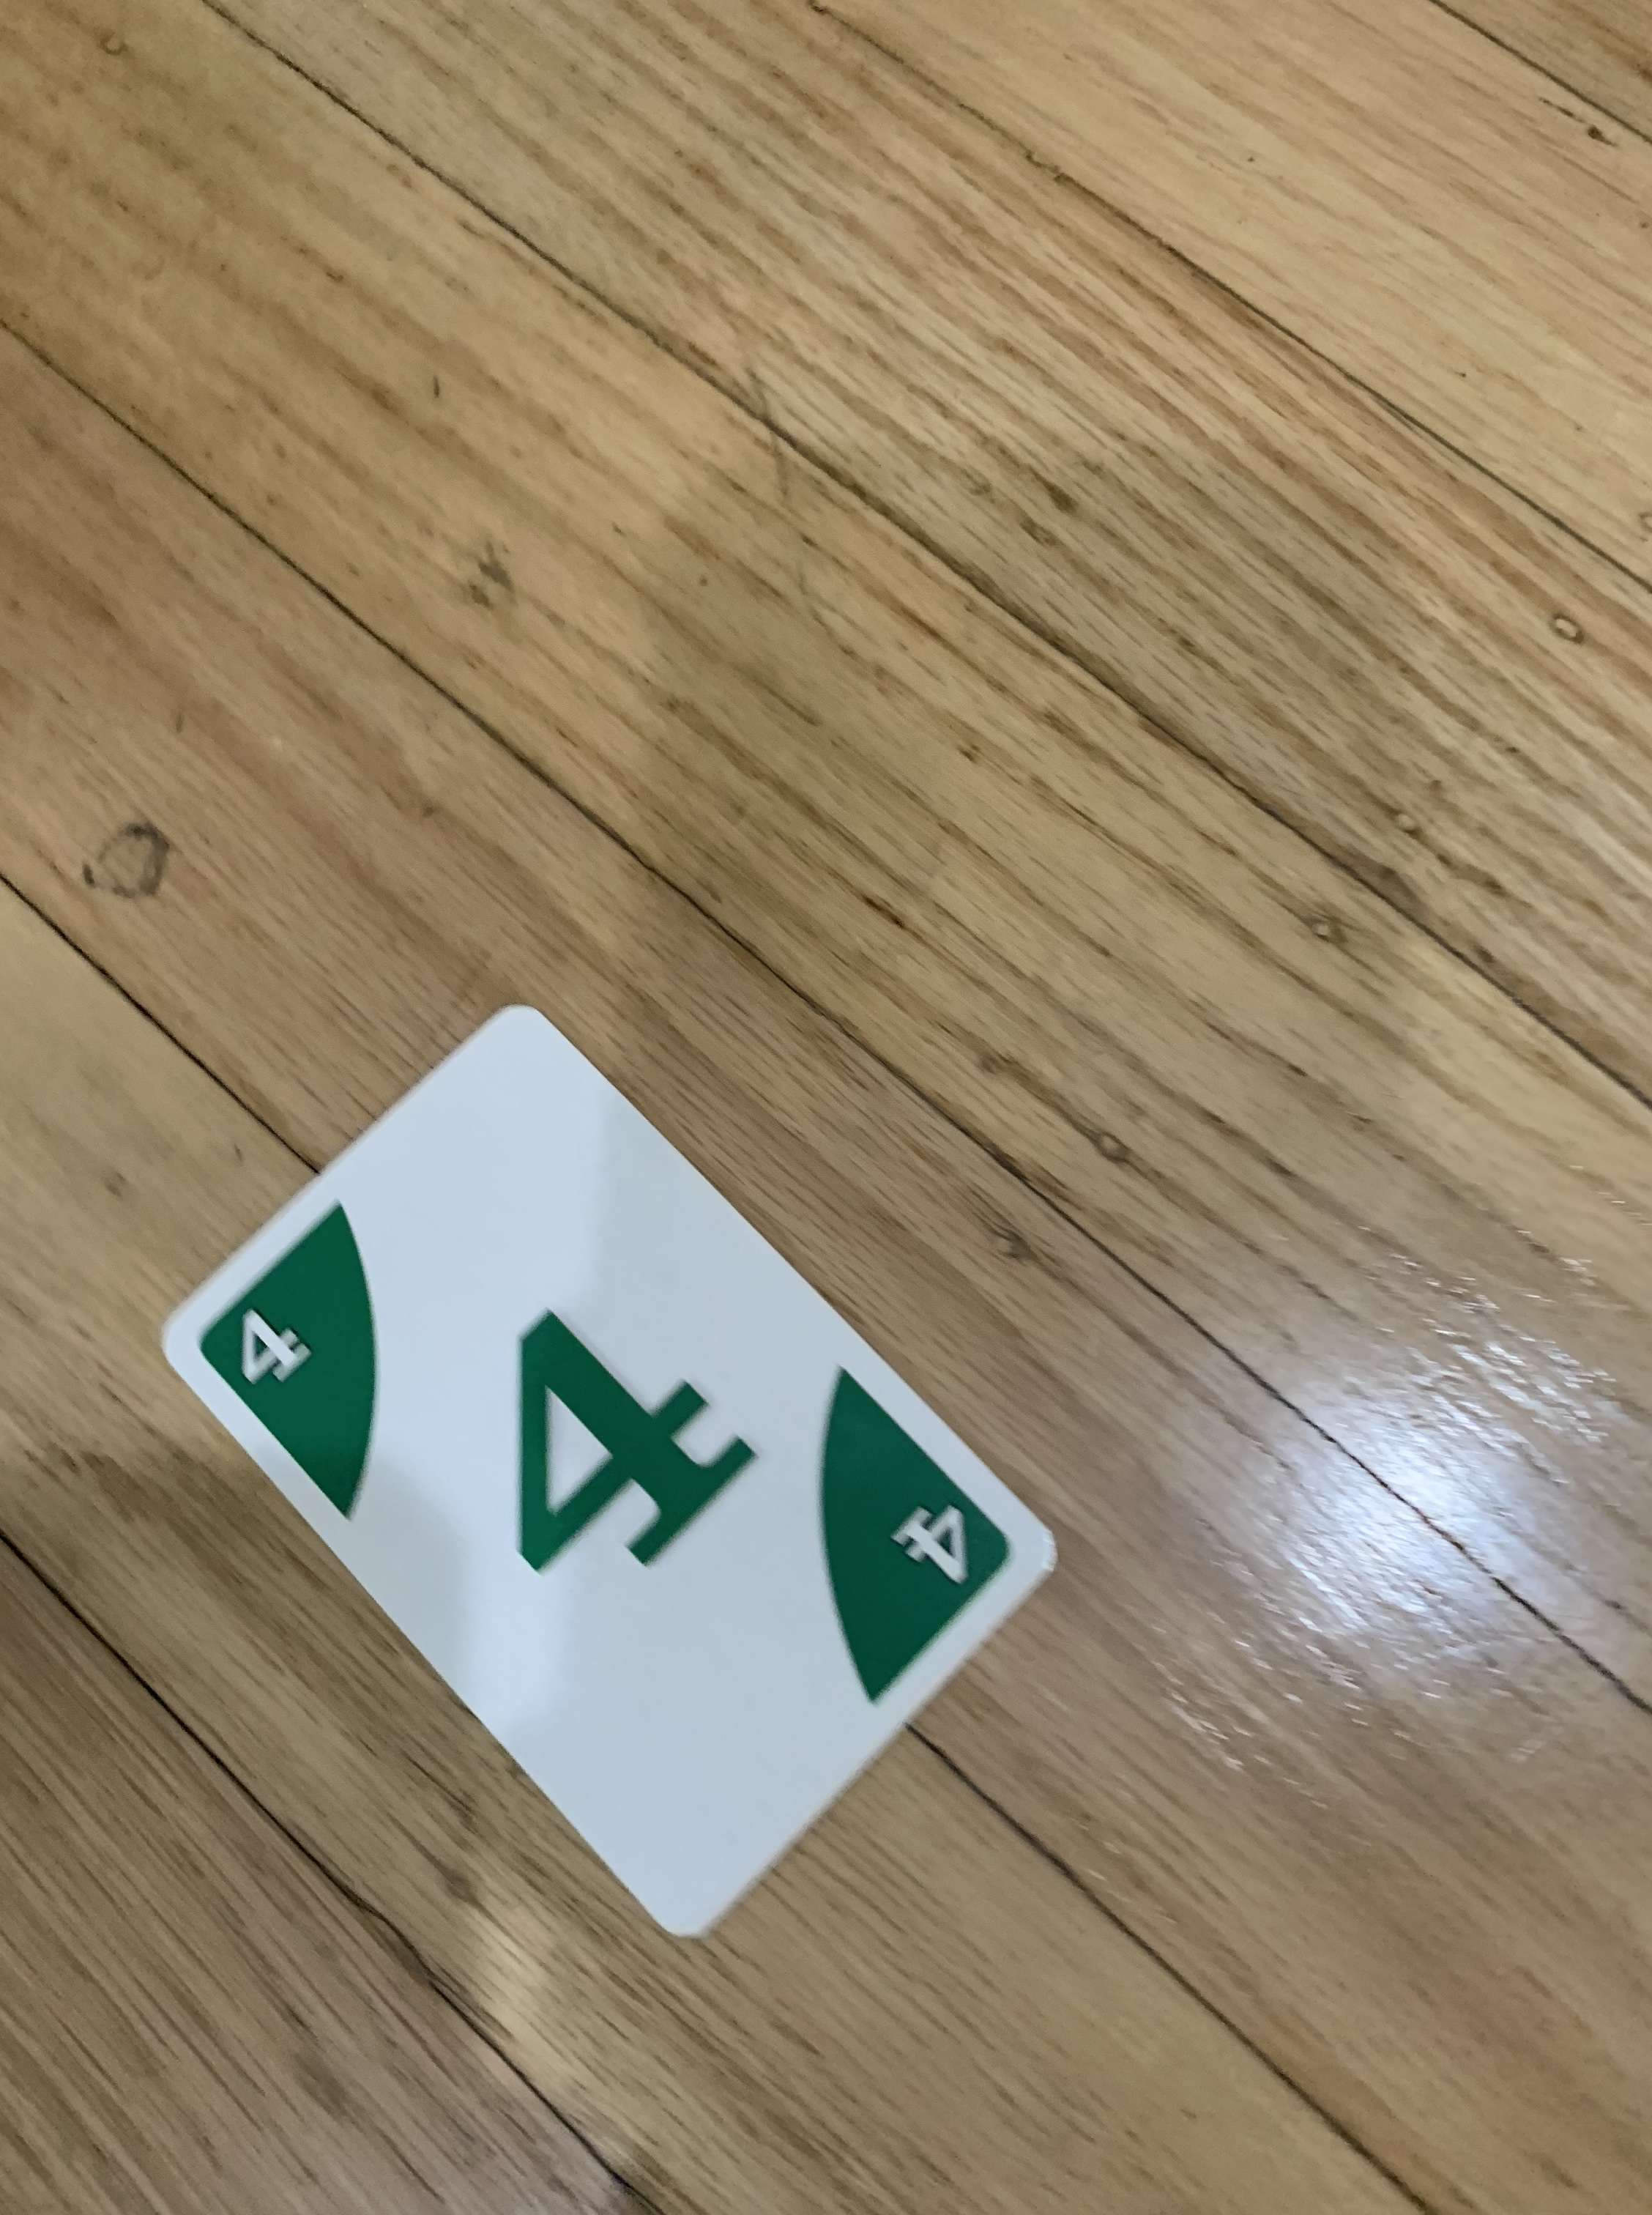four: (146, 988, 1069, 1967)
